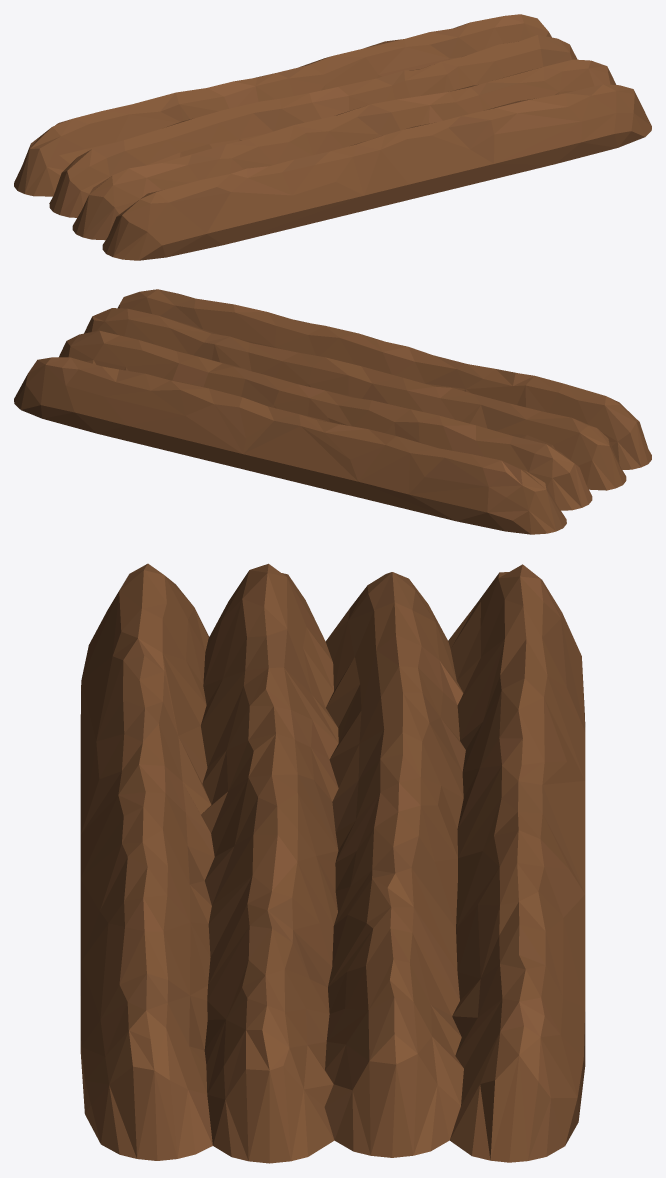
Rendered from FMS_Bed_Row_Soil.fbx.
3 views of the same model, one above another, from view 1: azimuth 30°, elevation 25°; view 2: azimuth 150°, elevation 25°; view 3: azimuth 270°, elevation 25° (orthographic). The views are drawn at different scales.
Parts seen in each view (by area): view 1: FMS_Bed_Row_Soil; view 2: FMS_Bed_Row_Soil; view 3: FMS_Bed_Row_Soil.
Boxes of the visible parts, <box> form: FMS_Bed_Row_Soil: <box>14,14,651,260</box>; FMS_Bed_Row_Soil: <box>14,289,651,534</box>; FMS_Bed_Row_Soil: <box>80,563,585,1163</box>.
Bounding box in the file's own units: 2 × 0.2 × 0.8.
